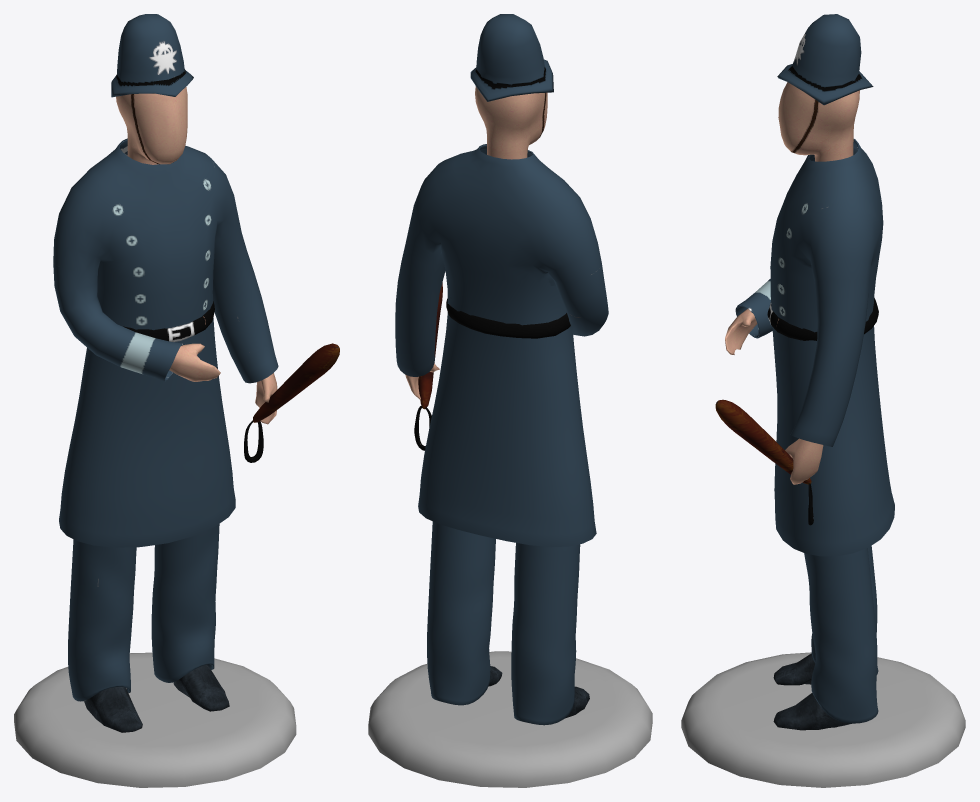
The model's file is Policeman.fbx.
3 views of the same model, side by side, from view 1: azimuth 30°, elevation 25°; view 2: azimuth 150°, elevation 25°; view 3: azimuth 270°, elevation 25° (orthographic).
Visible parts, largest first — view 1: Poliziotto; view 2: Poliziotto; view 3: Poliziotto.
Boxes of the visible parts, box(x1,y1,x2,y2) form: Poliziotto: box(14, 14, 339, 787); Poliziotto: box(368, 14, 652, 787); Poliziotto: box(681, 14, 965, 787).
Size of the model in its own units: 0.5643 by 1.48 by 0.5385.
